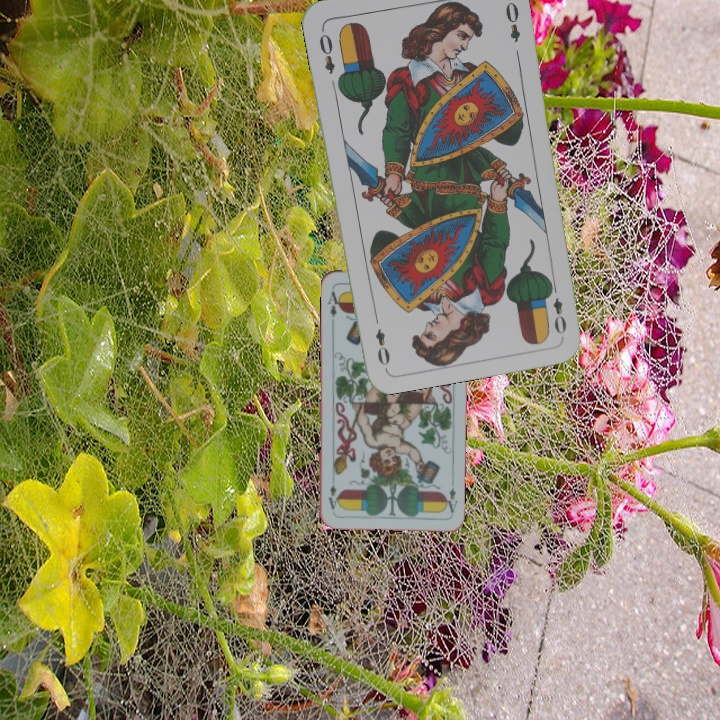EA: (324, 284, 343, 320), (441, 484, 460, 515)
EO: (544, 279, 569, 337), (315, 25, 338, 77)
